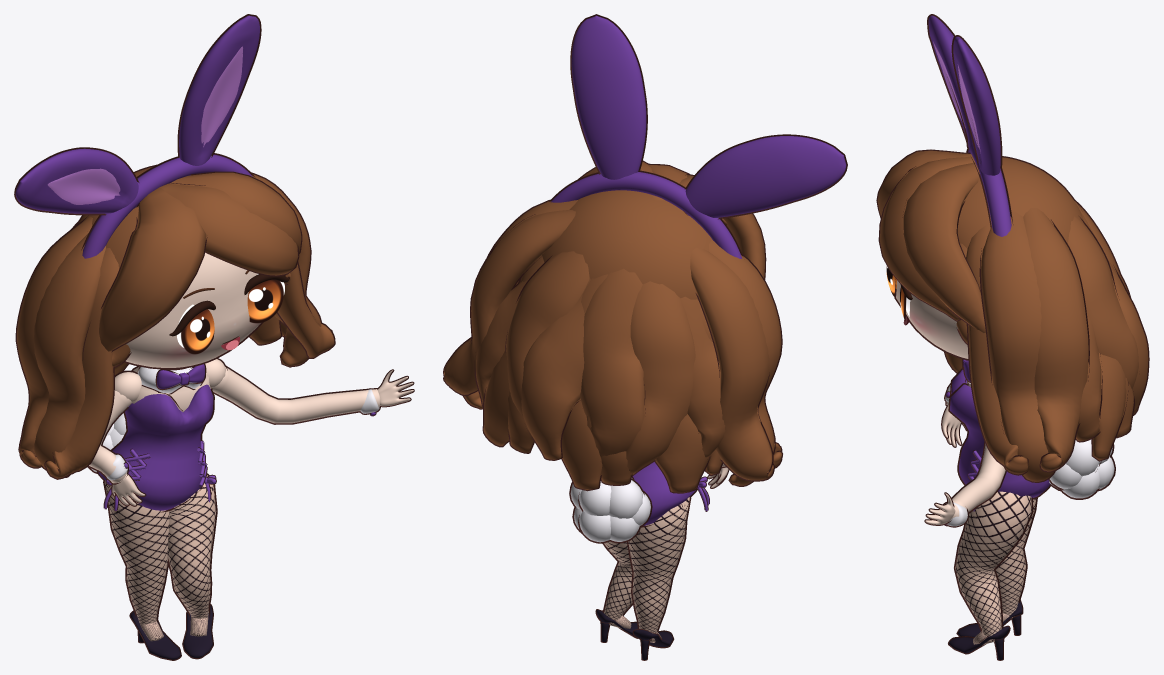
The model's file is bunny_stand.glb.
The picture shows the model from 3 angles, left to right: view 1: azimuth 30°, elevation 25°; view 2: azimuth 150°, elevation 25°; view 3: azimuth 270°, elevation 25°; orthographic projection. The views are drawn at different scales.
Visible parts, largest first — view 1: Stand_Bang_MainL, Stand_SideWave_Mid_L, Stand_BunnySuit, Stand_Head, Stand_Bang_MainR, Stand_SideWave_Front_L, Stand_Leg_R, Stand_BunnyEar_L_Outer, Stand_Leg_L, Stand_SideWave_Outer_L, Stand_BunnyEar_R_Outer, Stand_Arm_L (+18 smaller); view 2: Stand_SideWave_Outer_L, Stand_HairCap, Stand_BunnyEar_L_Outer, Stand_BunnyEar_R_Outer, Stand_BackTop_L1, Stand_BackTop_L2, Stand_BackTop_R1, Stand_SideWave_Outer_R, Stand_BackTop_R2, Stand_Leg_R, Stand_BunnyTail, Stand_Headband (+12 smaller); view 3: Stand_SideWave_Mid_R, Stand_SideWave_Outer_R, Stand_Bang_LayerR, Stand_Leg_L, Stand_BackTop_R2, Stand_HairCap, Stand_SideWave_Front_R, Stand_Bang_MainR, Stand_BunnyEar_L_Outer, Stand_BunnySuit, Stand_BunnyTail, Stand_BackBase_R2 (+15 smaller).
Part boxes in pixels (bbox=[...]): Stand_Bang_MainL: bbox=[99, 187, 207, 352]; Stand_SideWave_Mid_L: bbox=[33, 233, 105, 477]; Stand_BunnySuit: bbox=[96, 384, 214, 512]; Stand_Head: bbox=[124, 252, 285, 369]; Stand_Bang_MainR: bbox=[160, 182, 299, 276]; Stand_SideWave_Front_L: bbox=[44, 248, 119, 479]; Stand_Leg_R: bbox=[103, 479, 169, 624]; Stand_BunnyEar_L_Outer: bbox=[177, 14, 261, 165]; Stand_Leg_L: bbox=[167, 473, 217, 618]; Stand_SideWave_Outer_L: bbox=[15, 215, 92, 468]; Stand_BunnyEar_R_Outer: bbox=[14, 147, 140, 215]; Stand_Arm_L: bbox=[212, 365, 380, 424]; Stand_SideWave_Outer_L: bbox=[690, 247, 775, 481]; Stand_HairCap: bbox=[542, 190, 712, 300]; Stand_BunnyEar_L_Outer: bbox=[570, 14, 647, 179]; Stand_BunnyEar_R_Outer: bbox=[684, 134, 847, 219]; Stand_BackTop_L1: bbox=[580, 268, 645, 460]; Stand_BackTop_L2: bbox=[626, 281, 695, 475]; Stand_BackTop_R1: bbox=[521, 280, 590, 460]; Stand_SideWave_Outer_R: bbox=[443, 210, 575, 395]; Stand_BackTop_R2: bbox=[505, 251, 589, 416]; Stand_Leg_R: bbox=[627, 496, 691, 639]; Stand_BunnyTail: bbox=[569, 476, 652, 543]; Stand_Headband: bbox=[549, 170, 742, 258]; Stand_SideWave_Mid_R: bbox=[979, 211, 1055, 482]; Stand_SideWave_Outer_R: bbox=[1023, 207, 1089, 472]; Stand_Bang_LayerR: bbox=[902, 162, 985, 332]; Stand_Leg_L: bbox=[954, 491, 1033, 640]; Stand_BackTop_R2: bbox=[1068, 216, 1138, 389]; Stand_HairCap: bbox=[957, 156, 1084, 248]; Stand_SideWave_Front_R: bbox=[966, 224, 1029, 475]; Stand_Bang_MainR: bbox=[878, 156, 975, 321]; Stand_BunnyEar_L_Outer: bbox=[951, 35, 1002, 179]; Stand_BunnySuit: bbox=[948, 368, 1051, 499]; Stand_BunnyTail: bbox=[1048, 439, 1115, 499]; Stand_BackBase_R2: bbox=[1091, 353, 1128, 461].
Size of the model in its own units: 0.9562 by 1.45 by 0.562.
Materials: 17 (4 with a texture image).
